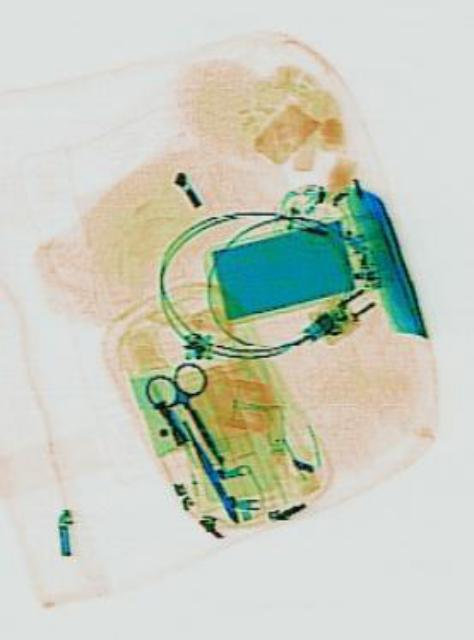Scissors: (137, 344, 237, 488)
